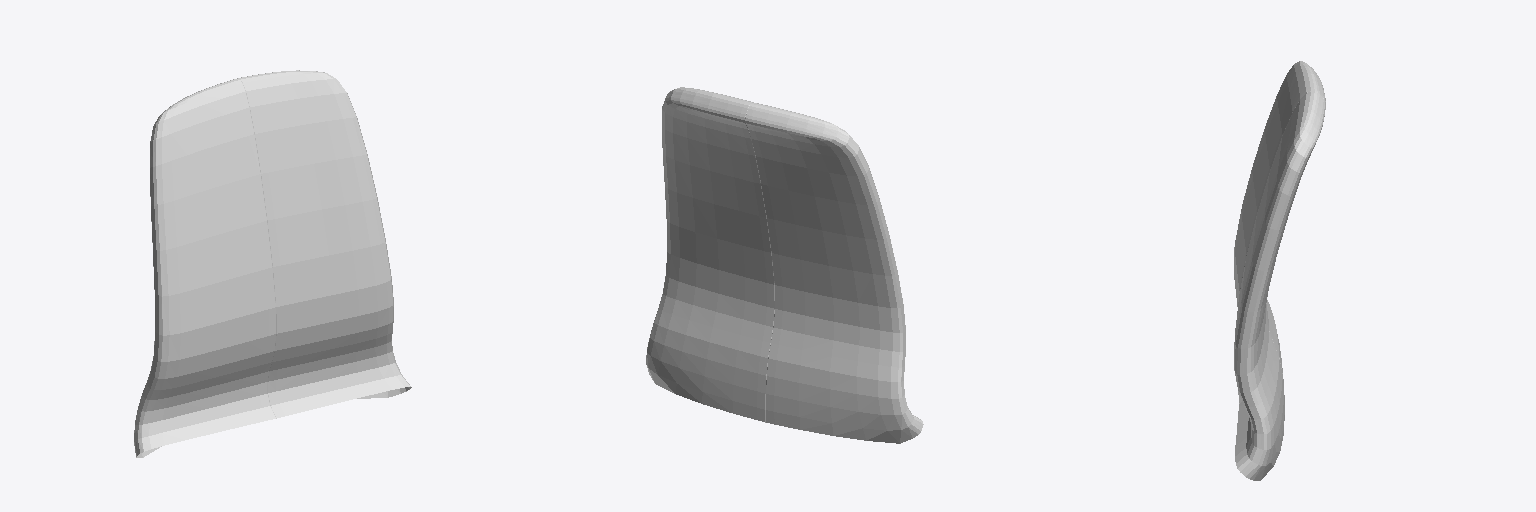
Rendered from back.obj.
3 views of the same model, side by side, from view 1: azimuth 30°, elevation 25°; view 2: azimuth 150°, elevation 25°; view 3: azimuth 270°, elevation 25° (orthographic).
Parts seen in each view (by area): view 1: back; view 2: back; view 3: back.
Part boxes in pixels (bbox=[...]): back: bbox=[134, 70, 411, 457]; back: bbox=[646, 87, 923, 443]; back: bbox=[1234, 61, 1325, 480].
Size of the model in its own units: 18.76 by 21.68 by 5.5.